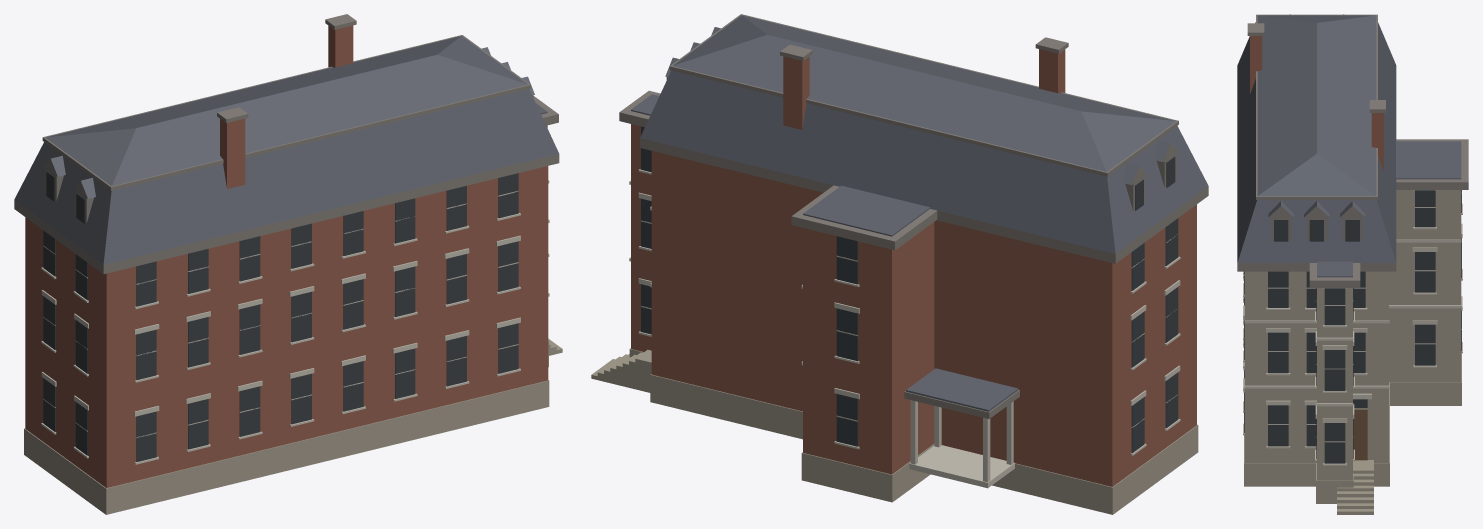
Rendered from jones_house_1834_prairie__draft_1904.glb.
The picture shows the model from 3 angles, left to right: view 1: azimuth 30°, elevation 25°; view 2: azimuth 150°, elevation 25°; view 3: azimuth 270°, elevation 25°; orthographic projection. The views are drawn at different scales.
Parts seen in each view (by area): view 1: jones_house_1834_prairie__draft_1904; view 2: jones_house_1834_prairie__draft_1904; view 3: jones_house_1834_prairie__draft_1904.
Part boxes in pixels (<box>): jones_house_1834_prairie__draft_1904: <box>14,14,562,514</box>; jones_house_1834_prairie__draft_1904: <box>591,14,1208,514</box>; jones_house_1834_prairie__draft_1904: <box>1237,14,1468,514</box>.
Bounding box in the file's own units: 25.65 × 17.33 × 11.2.
